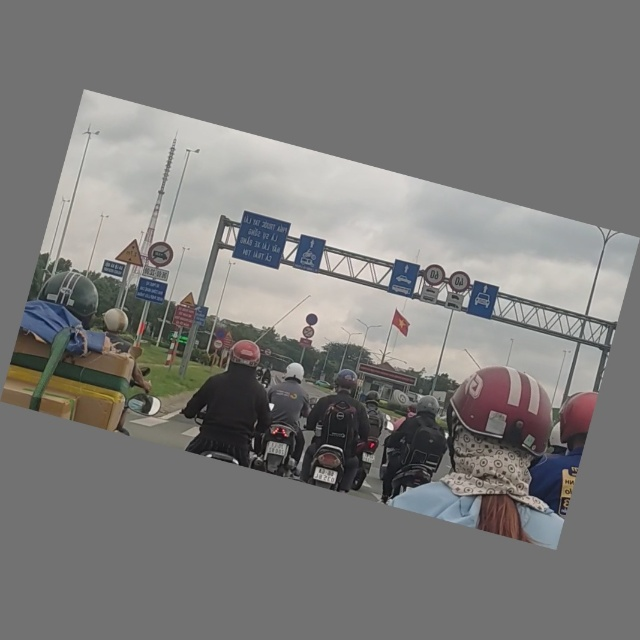Camera: (191, 305, 208, 327)
P.106a*Xe tai: (145, 239, 176, 270)
P.107: (263, 348, 274, 359)
P.111: (301, 326, 315, 341)
P.127*40: (446, 270, 473, 295)
P.127*60: (421, 263, 448, 288)
P.129: (211, 339, 224, 352)
P.130: (304, 313, 319, 327)
P.131a: (213, 326, 228, 341)
W.221b: (178, 290, 198, 309)
W.239b*: (113, 235, 149, 268)
